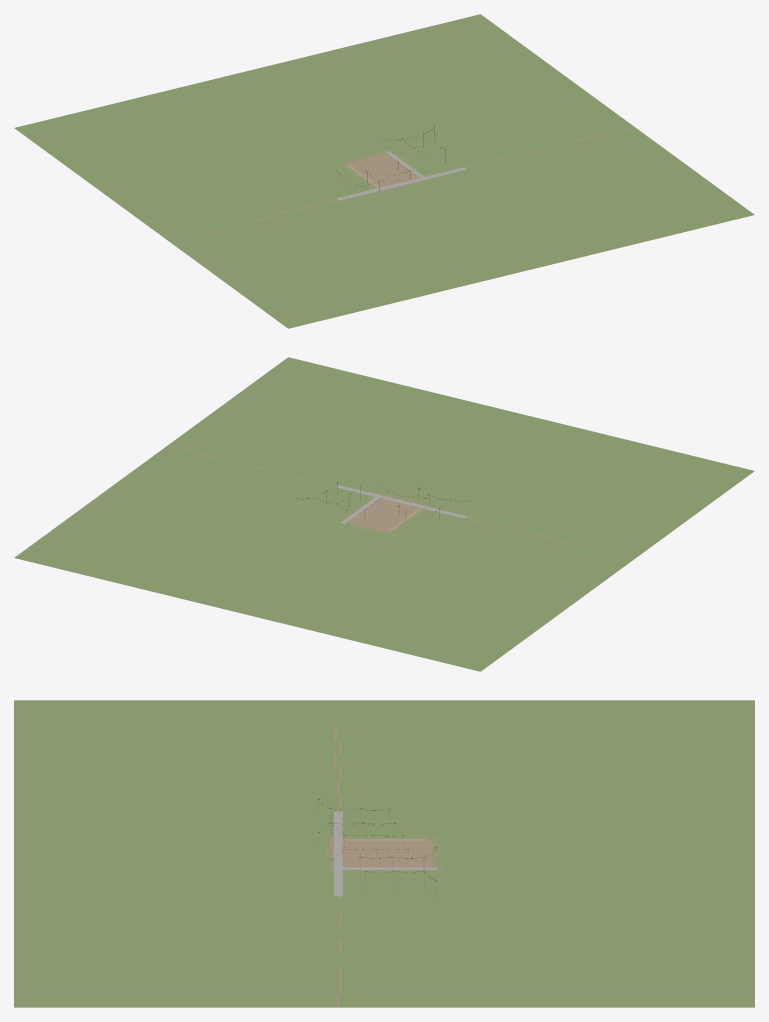
The model's file is barangay_env.glb.
3 views of the same model, one above another, from view 1: azimuth 30°, elevation 25°; view 2: azimuth 150°, elevation 25°; view 3: azimuth 270°, elevation 25° (orthographic). The views are drawn at different scales.
Visible parts, largest first — view 1: Terrain; view 2: Terrain; view 3: Terrain, Road_Main, Electric_Posts.049.
Part boxes in pixels (x1,y1,x2,y2): Terrain: (14,14,754,328); Terrain: (14,357,754,671); Terrain: (14,700,754,1007); Road_Main: (334,811,342,896); Electric_Posts.049: (318,798,436,898).
Bounding box in the file's own units: 546 × 19.05 × 556.
